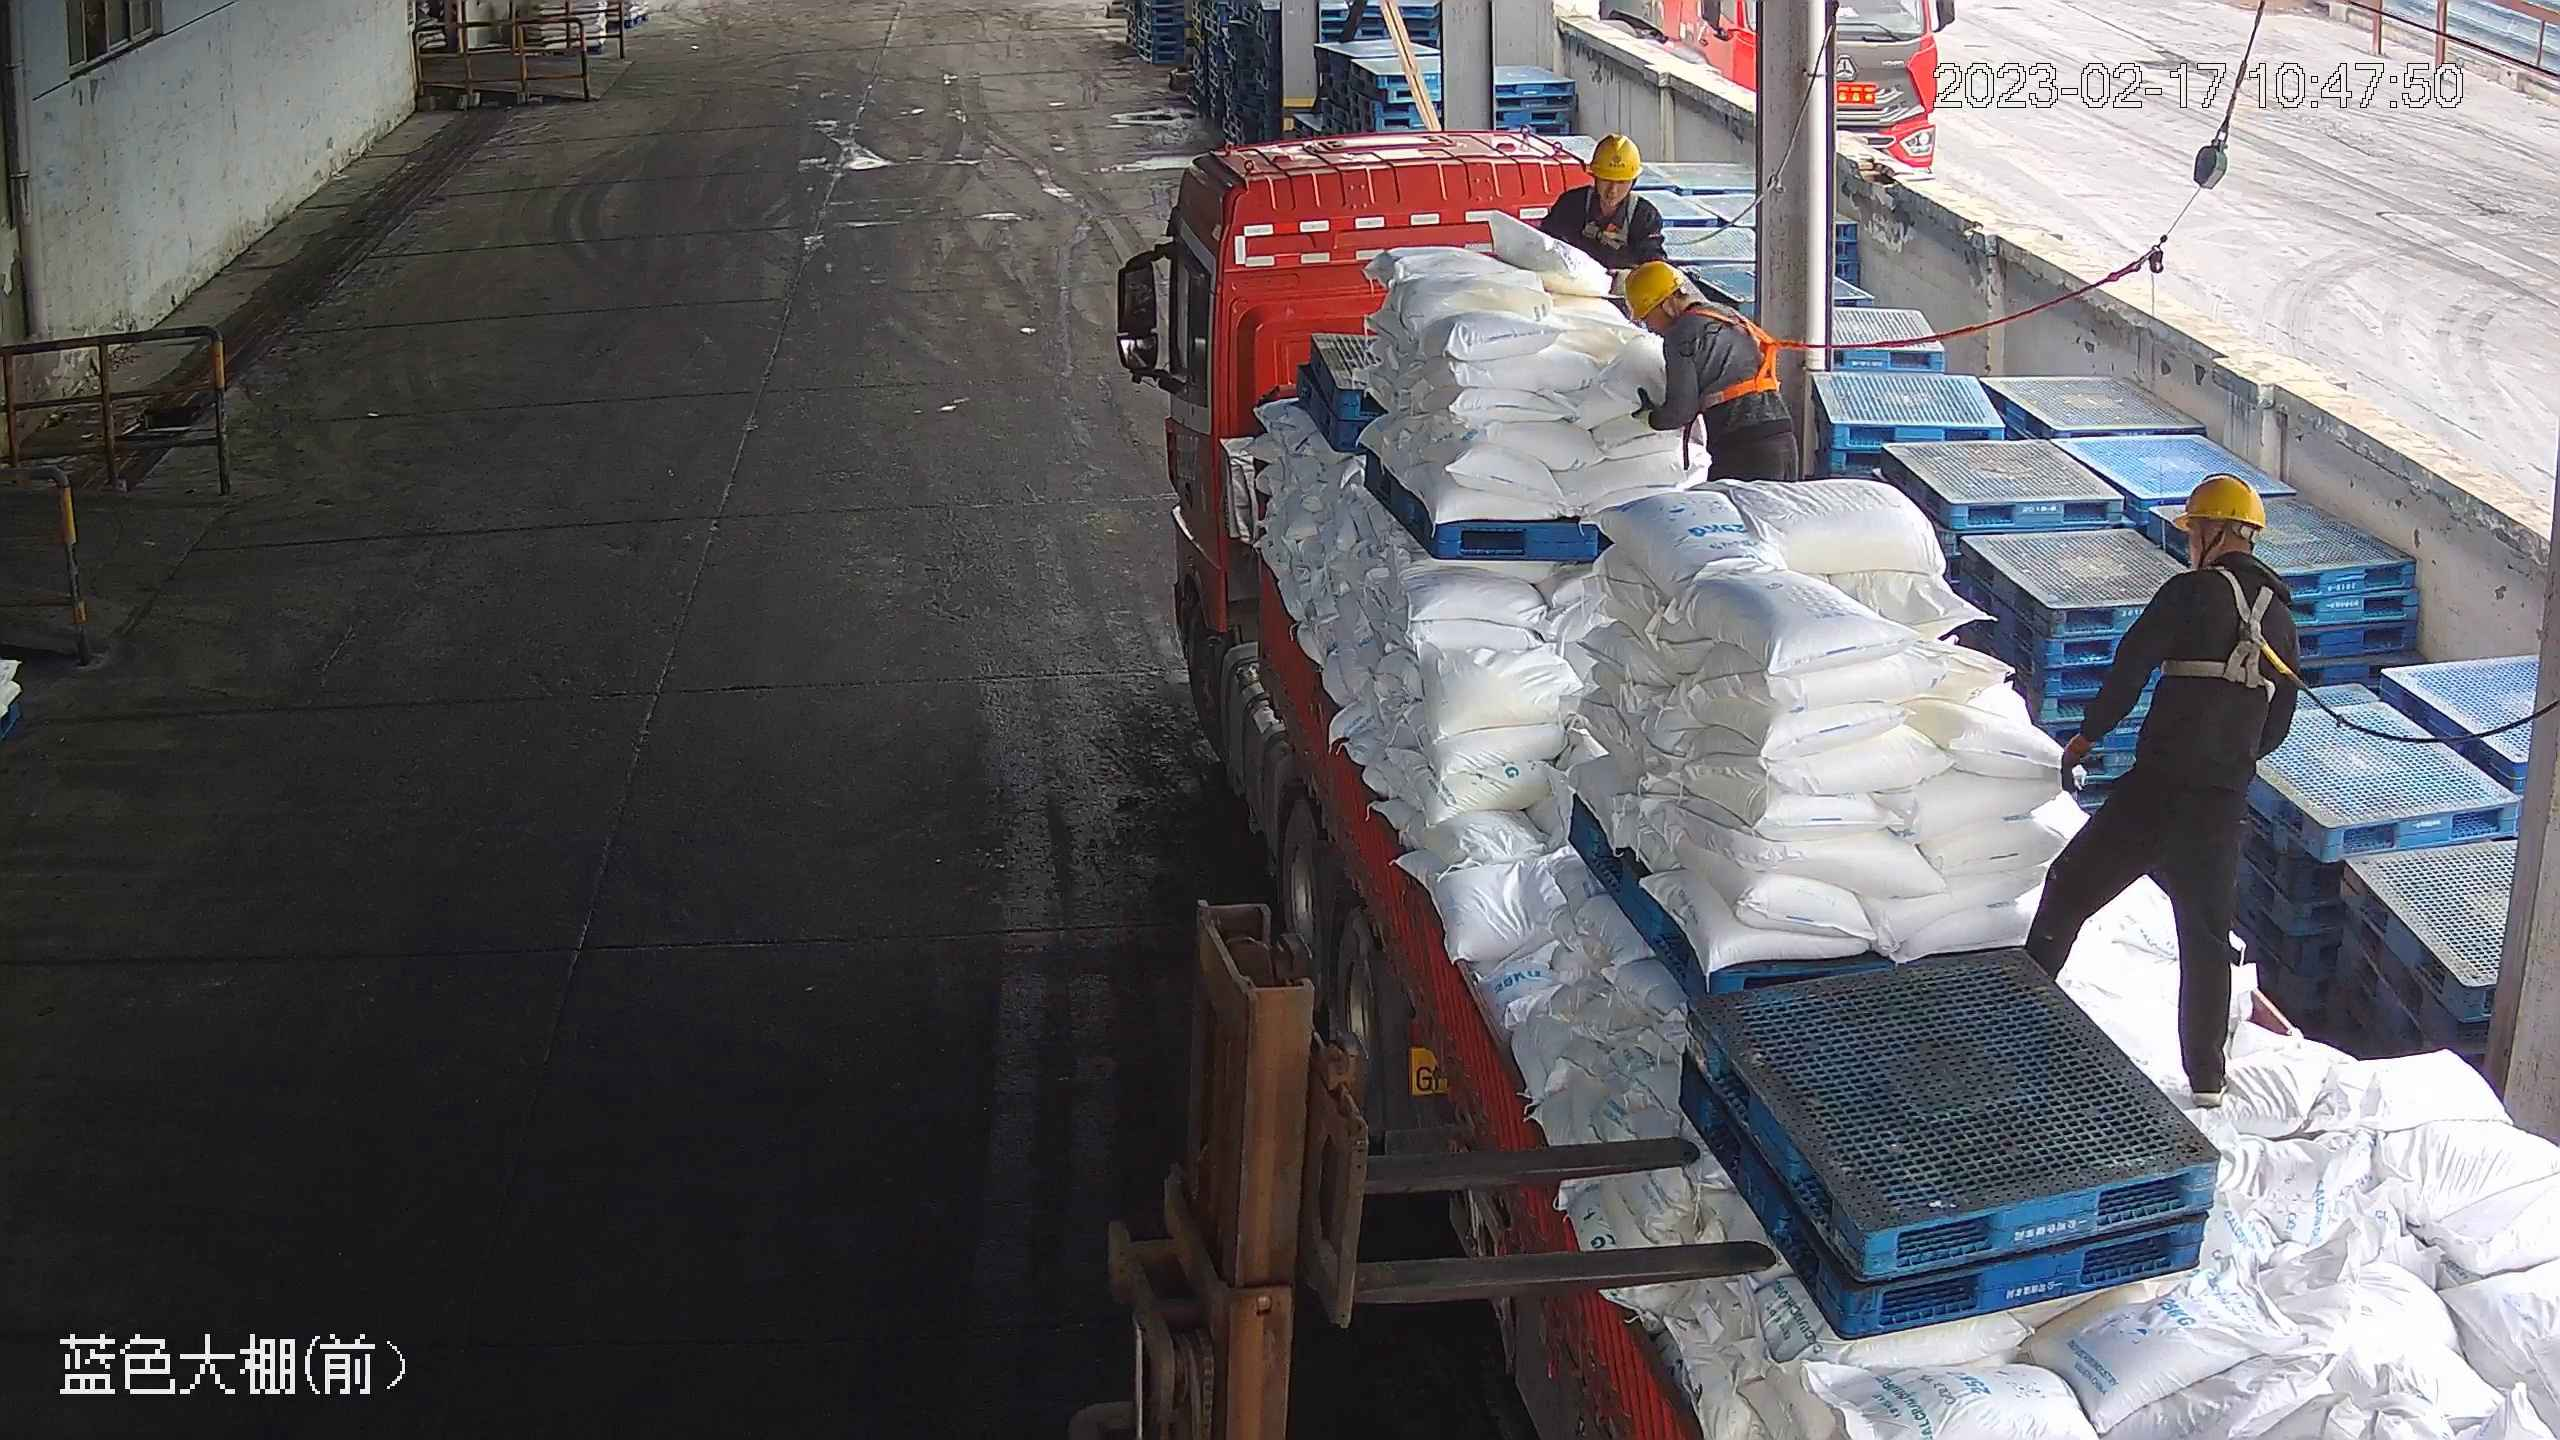belt: (2163, 559, 2294, 699), (1680, 304, 1796, 409), (1575, 182, 1645, 247)
head: (1622, 256, 1808, 484), (2148, 471, 2296, 633), (1620, 258, 1763, 359), (1552, 130, 1661, 232)
helmet: (2171, 470, 2268, 537), (1621, 257, 1687, 323), (1586, 130, 1643, 182)
people: (2020, 471, 2305, 1102), (1621, 258, 1810, 488)
truck: (1121, 120, 2560, 1440)
